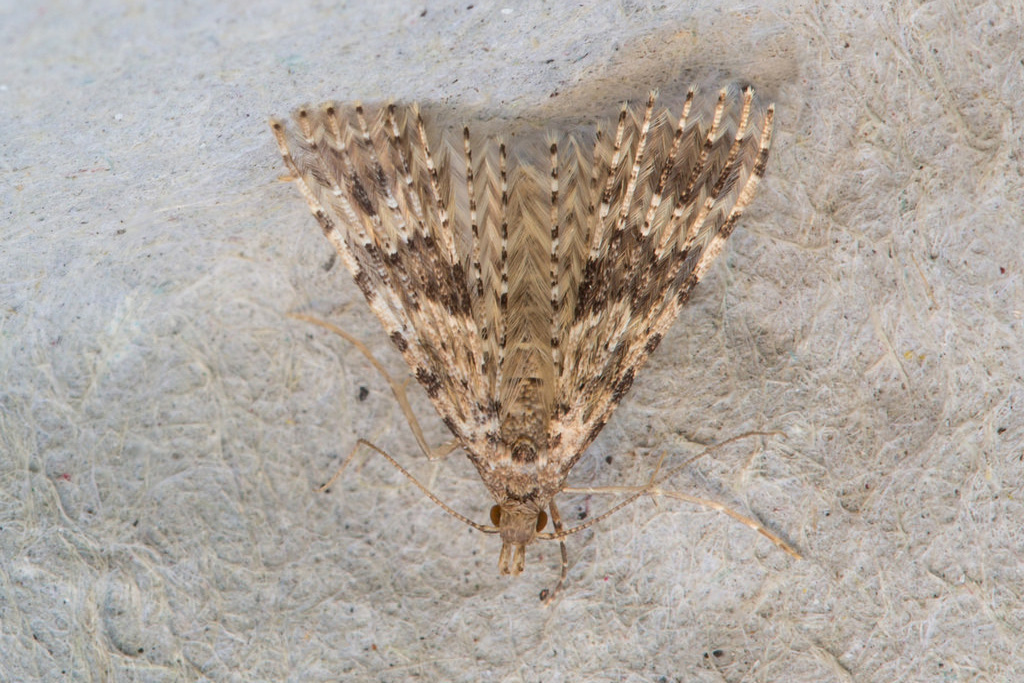Alucitidae: (259, 80, 821, 609)
moth: (261, 82, 823, 611)
